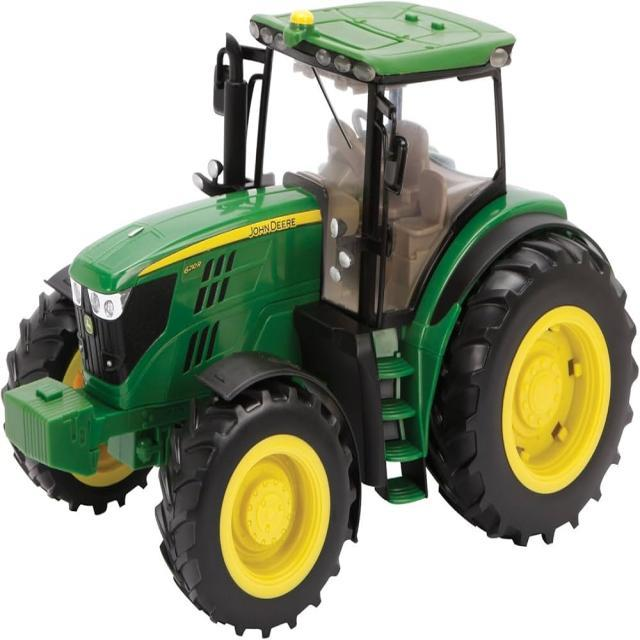Tratores - v5 YOLO V8L 2024-11-13: (2, 0, 639, 638)
